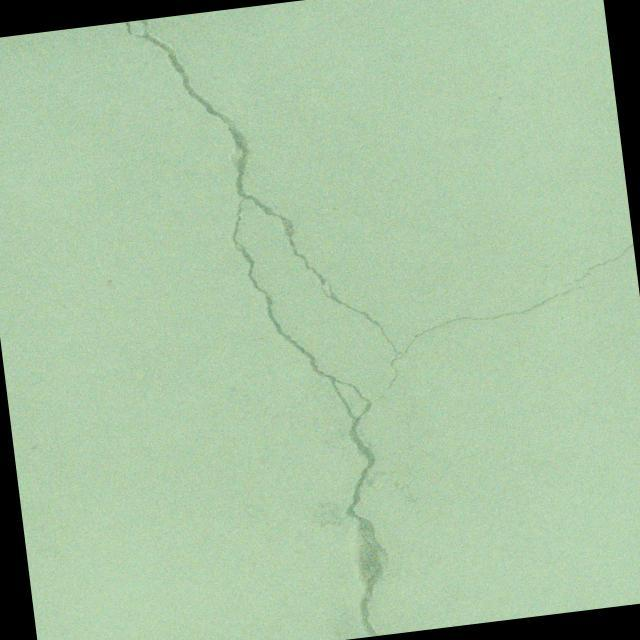crack: (123, 0, 626, 640), (552, 243, 638, 290)
